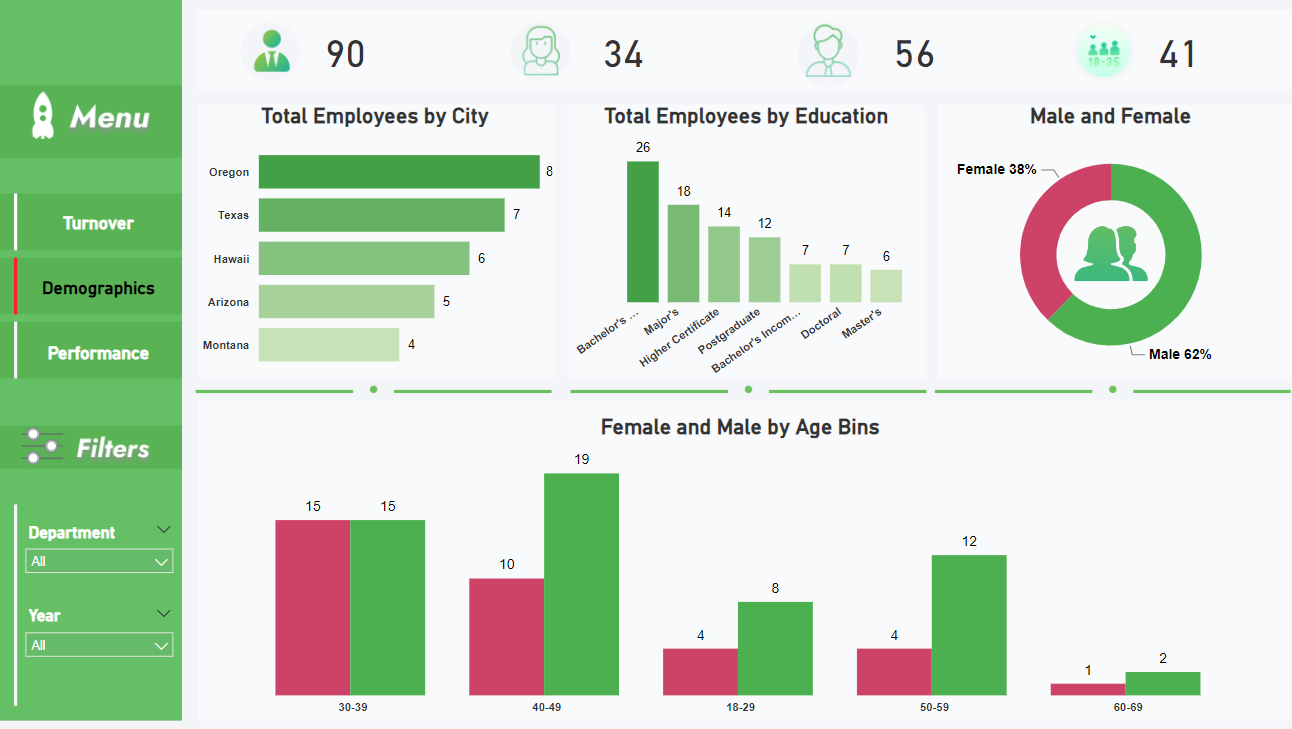

What the dashboard file says about the page in this screenshot:
{"tool":"powerbi","page":{"name":"Demographics","canvas":[1280,720],"ordinal":1},"visuals":[{"type":"pageNavigator","box":[46.2,192.5,148.8,193.8],"z":0},{"type":"card","fields":{"Values":["_Measures_.Total Employees"]},"box":[317.9,40.5,75,42.9],"z":1000},{"type":"card","fields":{"Values":["_Measures_.F"]},"box":[563.1,40.5,114.3,42.9],"z":2000},{"type":"card","fields":{"Values":["_Measures_.M"]},"box":[847.6,35.7,98.8,52.4],"z":3000},{"type":"card","fields":{"Values":["HR (Fact).Age Average"]},"box":[1106,41.7,86.9,40.5],"z":4000},{"type":"barChart","fields":{"Category":["Employees (Dim).City"],"Y":["_Measures_.Total Employees"]},"box":[204.5,104.3,358.1,281.3],"z":5000},{"type":"clusteredColumnChart","fields":{"Y":["_Measures_.Total Employees"],"Category":["HR (Fact).Education"]},"box":[562.6,104.3,348.5,281.3],"z":6000},{"type":"donutChart","fields":{"Y":["_Measures_.Male PERC.","_Measures_.Female PERC."]},"box":[911.2,104.3,347.2,281.3],"z":7000},{"type":"image","box":[1036.9,210.7,92.9,92.9],"z":8000},{"type":"clusteredColumnChart","title":"Female and Male by Age Bins","fields":{"Category":["HR (Fact).Age Bin"],"Y":["_Measures_.F","_Measures_.M"]},"box":[205,401.2,1053.8,306.2],"z":9000},{"type":"slicer","fields":{"Values":["Department Bridge (Dim).Department"]},"box":[36.2,505,171.2,71.2],"z":10000},{"type":"slicer","fields":{"Values":["HR (Fact).Hire Date.Variation.Date Hierarchy.Year"]},"box":[36.2,585,171.2,71.2],"z":11000}]}

Visuals, with their boxes on the page's 1280x720 design canvas (x1, y1, x2, y2). These are canvas units, not pixel positions in the 1292x729 screenshot, which may show the page scaled, cropped or inside an application window:
pageNavigator: 46 192 195 386
card - _Measures_.Total Employees: 318 40 393 83
card - _Measures_.F: 563 40 677 83
card - _Measures_.M: 848 36 946 88
card - HR (Fact).Age Average: 1106 42 1193 82
barChart - Employees (Dim).City x _Measures_.Total Employees: 204 104 563 386
clusteredColumnChart - _Measures_.Total Employees x HR (Fact).Education: 563 104 911 386
donutChart - _Measures_.Male PERC. x _Measures_.Female PERC.: 911 104 1258 386
image: 1037 211 1130 304
"Female and Male by Age Bins" clusteredColumnChart: 205 401 1259 707
slicer - Department Bridge (Dim).Department: 36 505 207 576
slicer - HR (Fact).Hire Date.Variation.Date Hierarchy.Year: 36 585 207 656
